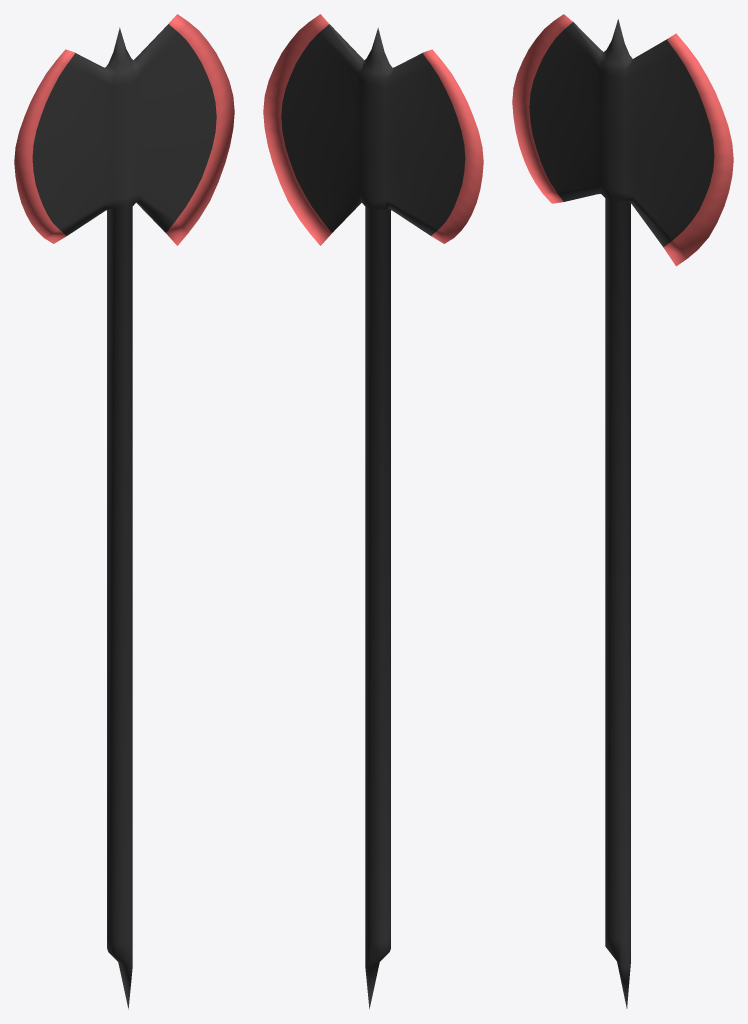
The model's file is TYPE-C_AXE.fbx.
3 renders of one model, left to right at view 1: azimuth 30°, elevation 25°; view 2: azimuth 150°, elevation 25°; view 3: azimuth 330°, elevation 25°, orthographic.
Parts seen in each view (by area): view 1: Type-C Axe; view 2: Type-C Axe; view 3: Type-C Axe.
Part boxes in pixels (x1,y1,x2,y2): Type-C Axe: (14,14,234,1009); Type-C Axe: (263,14,483,1009); Type-C Axe: (512,14,733,1008).
Bounding box in the file's own units: 97.25 × 415 × 11.08.
